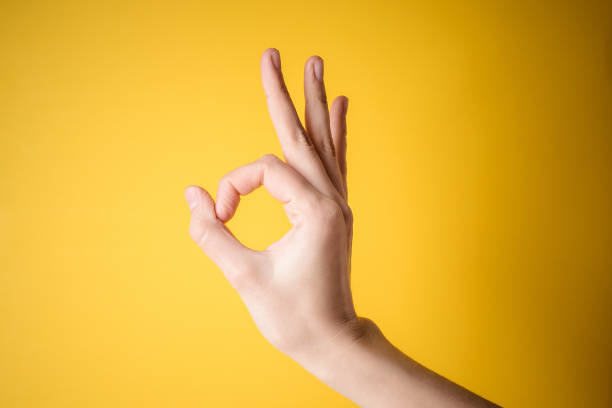oksign: (184, 51, 357, 325)
